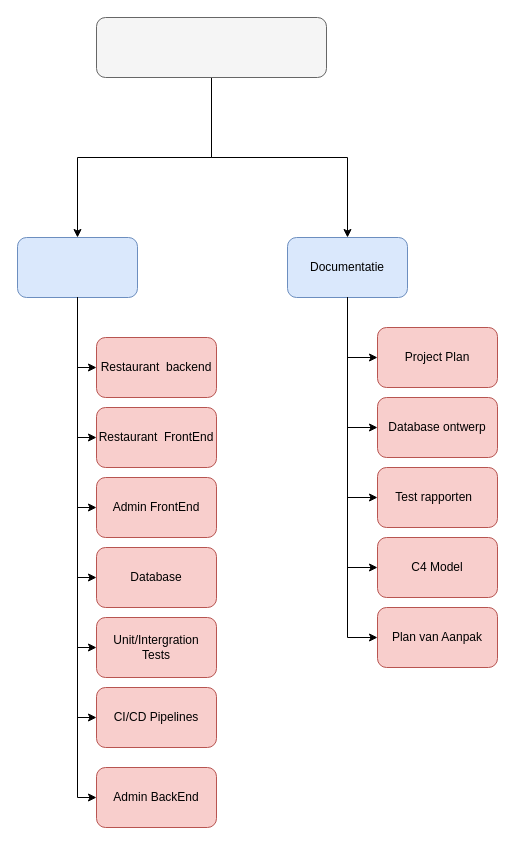
Some shapes in this 515 by 845 pixel diagram are drawn without their labels. Here are the shapes that lost their labels. From the top down, the centre of each, then its label:
pixel 211 47: Restaurant order systeem
pixel 77 267: Software
